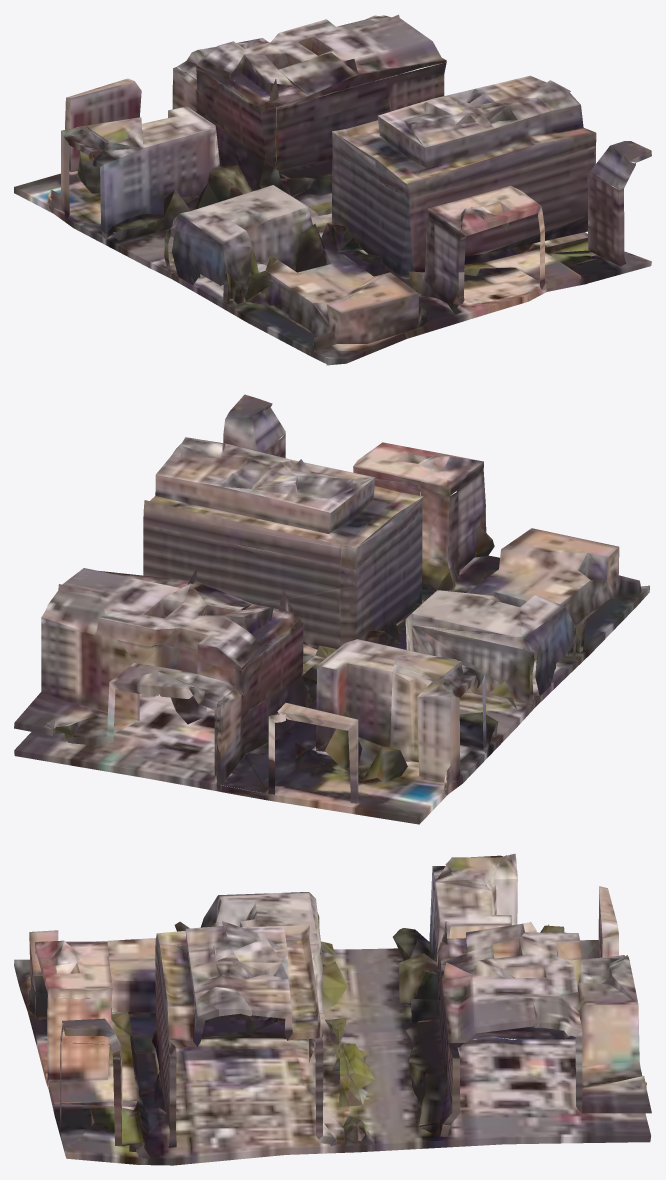
The picture shows the model from 3 angles, top to bottom: view 1: azimuth 30°, elevation 25°; view 2: azimuth 150°, elevation 25°; view 3: azimuth 270°, elevation 25°; orthographic projection. The views are drawn at different scales.
Parts seen in each view (by area): view 1: Mesh_0; view 2: Mesh_0; view 3: Mesh_0.
Boxes of the visible parts, left/top/right/bottom form: Mesh_0: left=14, top=14, right=651, bottom=365; Mesh_0: left=14, top=394, right=649, bottom=824; Mesh_0: left=14, top=853, right=651, bottom=1165.
Bounding box in the file's own units: 133 × 46.08 × 165.
Materials: 1 (1 with a texture image).
